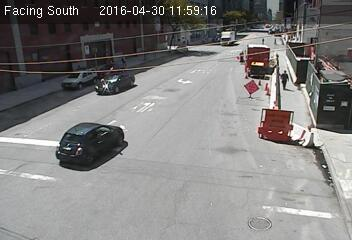neg: (107, 84, 133, 119), (46, 142, 71, 176), (35, 41, 58, 71), (231, 154, 252, 181), (88, 173, 108, 199), (82, 126, 100, 150), (142, 102, 160, 126), (304, 188, 321, 212), (114, 194, 131, 217), (277, 121, 294, 143), (201, 111, 217, 133), (165, 178, 181, 200), (189, 41, 205, 63), (125, 51, 141, 73), (321, 143, 337, 164), (234, 200, 249, 222), (299, 97, 314, 117), (232, 51, 247, 71), (252, 112, 265, 131)
pos: (277, 68, 293, 89)
